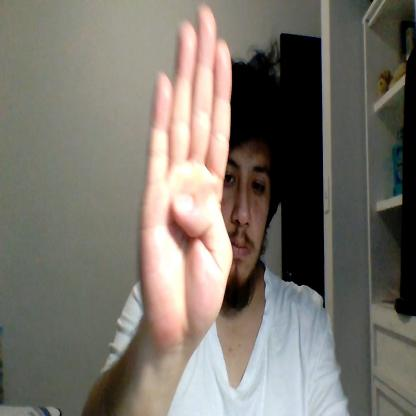B: (136, 5, 232, 347)
